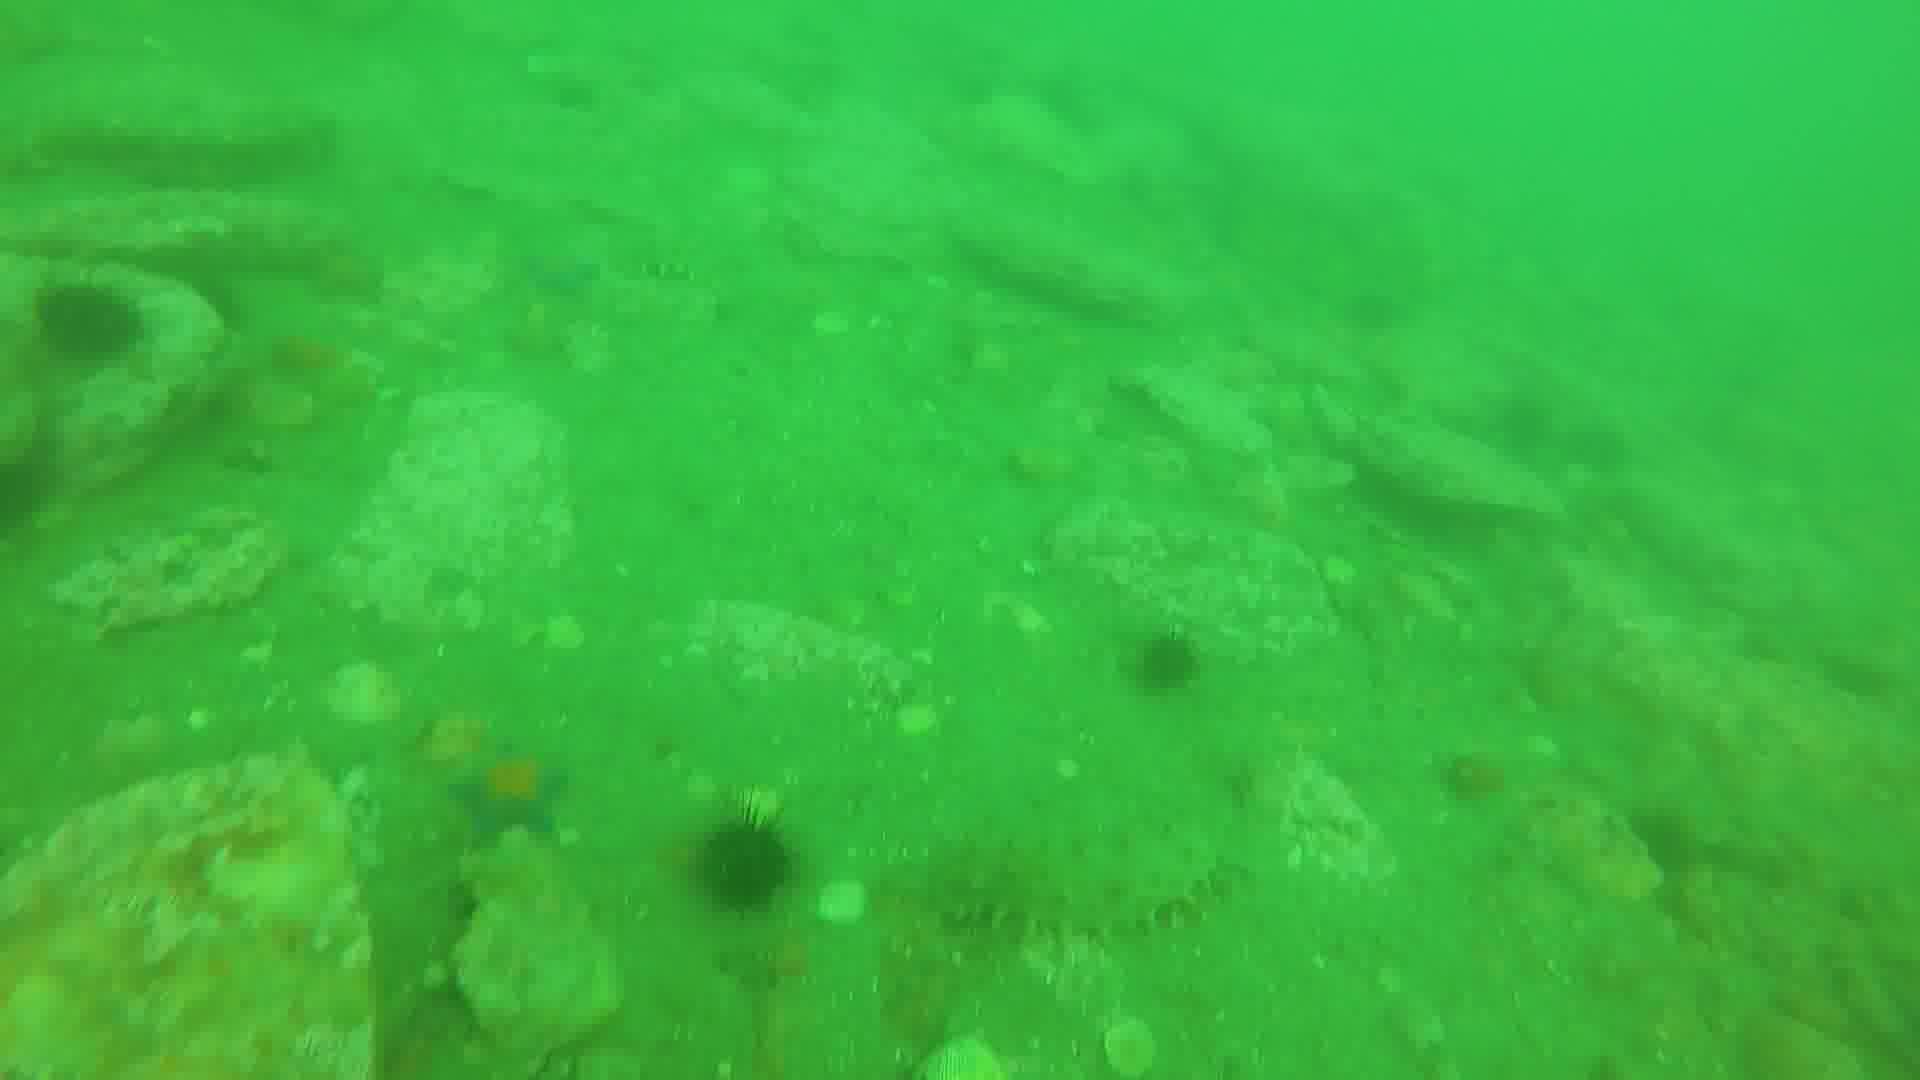echinus: (695, 808, 789, 909), (32, 286, 160, 357), (1124, 632, 1199, 698)
holothurian: (924, 825, 1234, 930)
scallop: (1104, 1004, 1160, 1080)
starfish: (452, 746, 571, 858), (526, 243, 600, 295)
